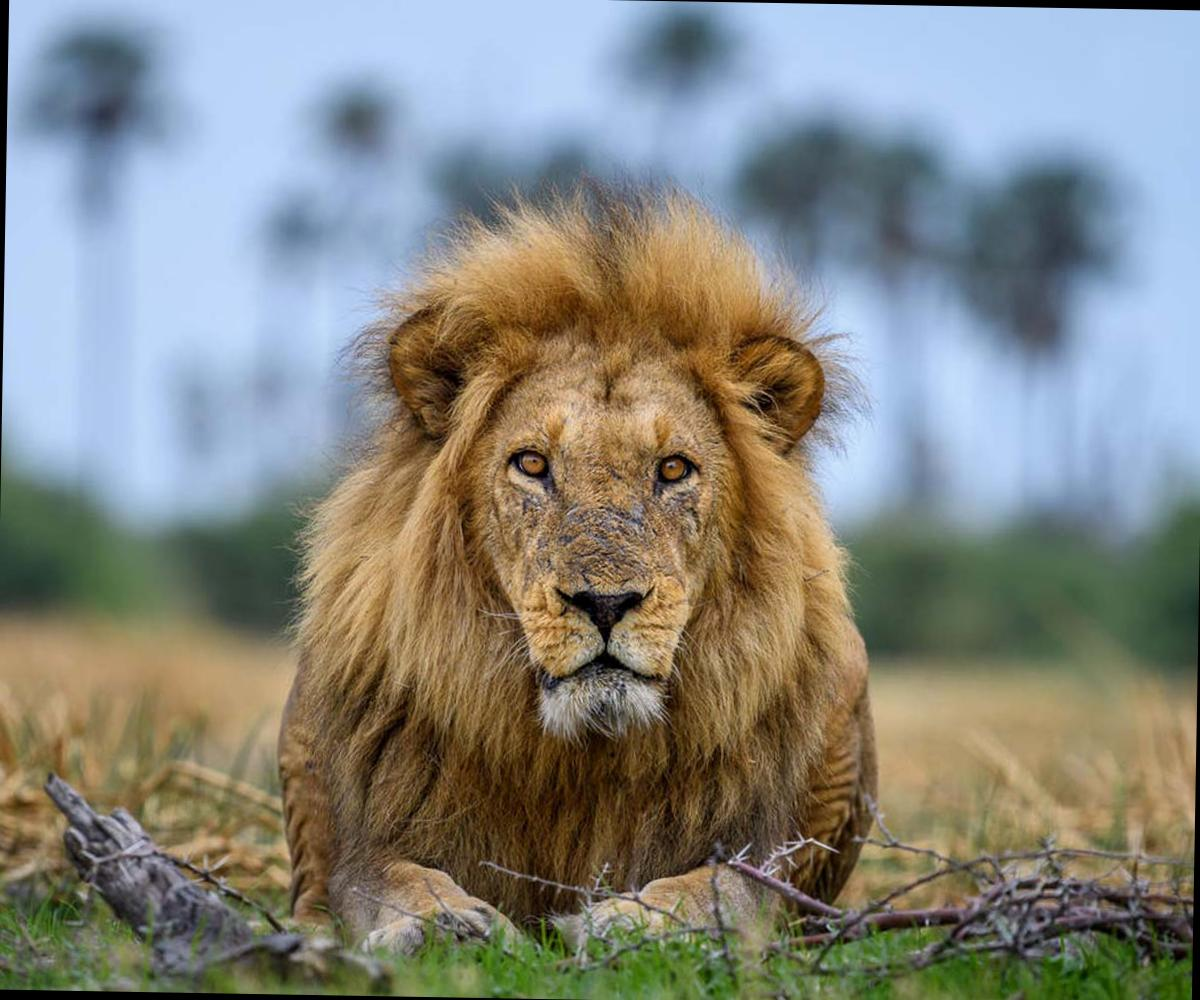lions: (0, 164, 943, 1000)
